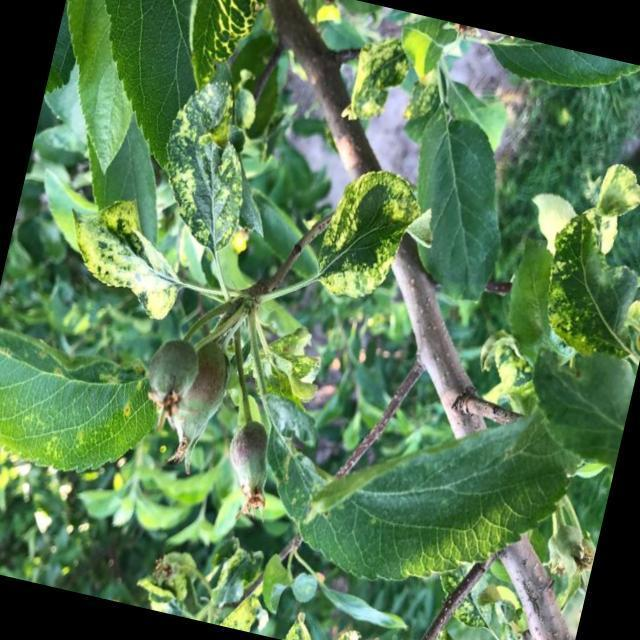Mosaic Virus: (305, 160, 437, 324), (48, 182, 199, 324), (154, 89, 266, 255), (524, 203, 640, 363), (184, 0, 279, 95), (339, 23, 415, 134)
